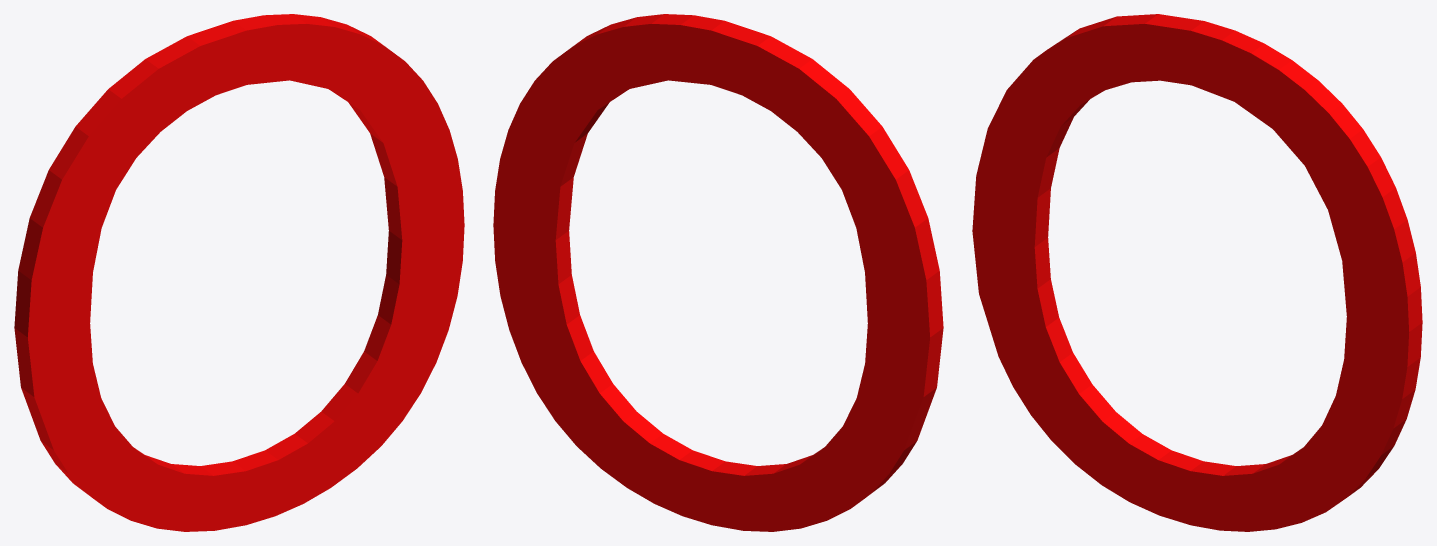
Rendered from original-51.obj.
3 renders of one model, left to right at view 1: azimuth 30°, elevation 25°; view 2: azimuth 150°, elevation 25°; view 3: azimuth 330°, elevation 25°, orthographic.
Parts seen in each view (by area): view 1: mesh69/mesh69-geometry#mesh69-geometry; view 2: mesh69/mesh69-geometry#mesh69-geometry; view 3: mesh69/mesh69-geometry#mesh69-geometry.
Boxes of the visible parts, x1,y1,x2,y2 form: mesh69/mesh69-geometry#mesh69-geometry: (14, 14, 464, 531); mesh69/mesh69-geometry#mesh69-geometry: (493, 14, 943, 531); mesh69/mesh69-geometry#mesh69-geometry: (972, 14, 1422, 531).
Size of the model in its own units: 0.0212 by 0.0229 by 0.00113.
